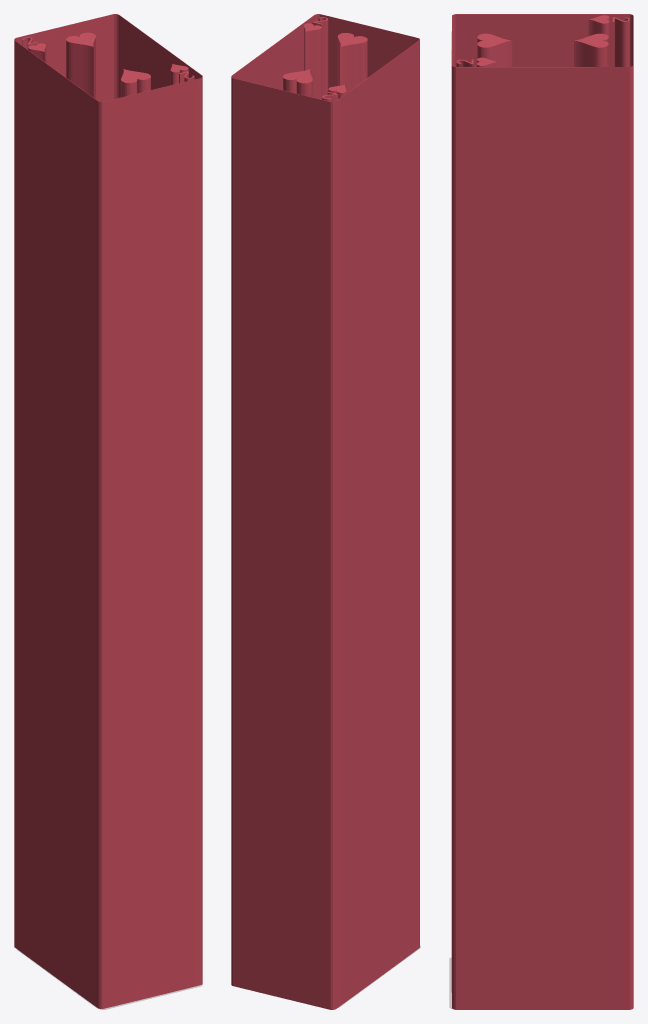
File: 2_hearts.glb
The picture shows the model from 3 angles, left to right: view 1: azimuth 30°, elevation 25°; view 2: azimuth 150°, elevation 25°; view 3: azimuth 270°, elevation 25°; orthographic projection. The views are drawn at different scales.
Visible parts, largest first — view 1: Mesh_Mesh_head_geo.001_lambert2SG.001; view 2: Mesh_Mesh_head_geo.001_lambert2SG.001; view 3: Mesh_Mesh_head_geo.001_lambert2SG.001.
Boxes of the visible parts, x1,y1,x2,y2 form: Mesh_Mesh_head_geo.001_lambert2SG.001: (14,14,202,1009); Mesh_Mesh_head_geo.001_lambert2SG.001: (231,14,420,1009); Mesh_Mesh_head_geo.001_lambert2SG.001: (449,14,633,1009).
Bounding box in the file's own units: 1.22 × 10 × 1.78.
